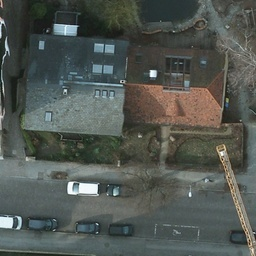car: (26, 214, 58, 232), (106, 182, 138, 199), (75, 220, 99, 235), (110, 222, 134, 235)
van: (65, 180, 100, 195), (0, 213, 21, 233)
